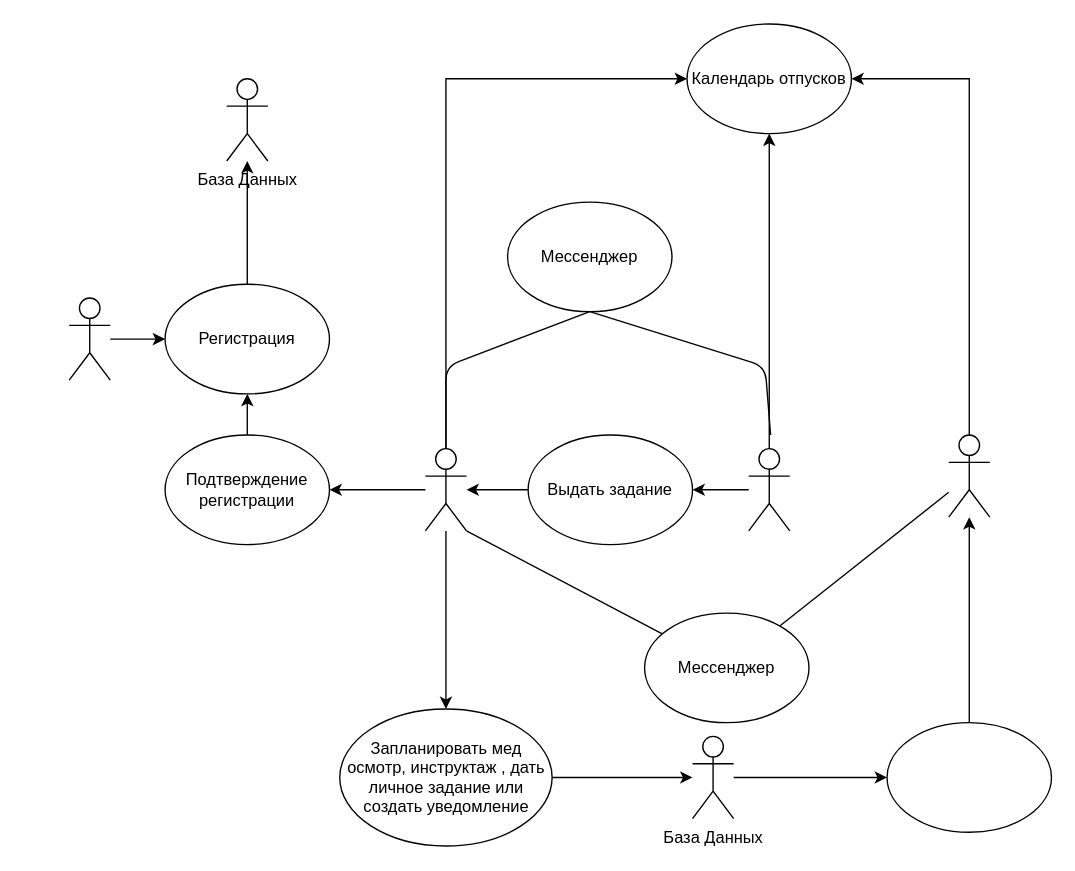
Some shapes in this 1075 by 871 pixel diagram are drawn without their labels. The centre of each missing label's shape, as x and y in pixels:
Директор: the point at 768,489
Начальник отдела: the point at 445,489
Новый сотрудник: the point at 89,338
Работник отдела: the point at 968,475
Уведомление от начальства: the point at 968,776
